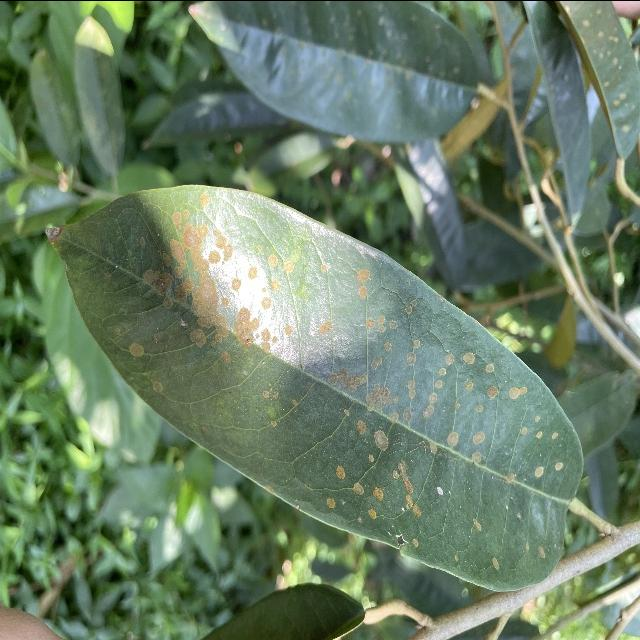Algal Leaf Spot: (36, 172, 589, 591)
